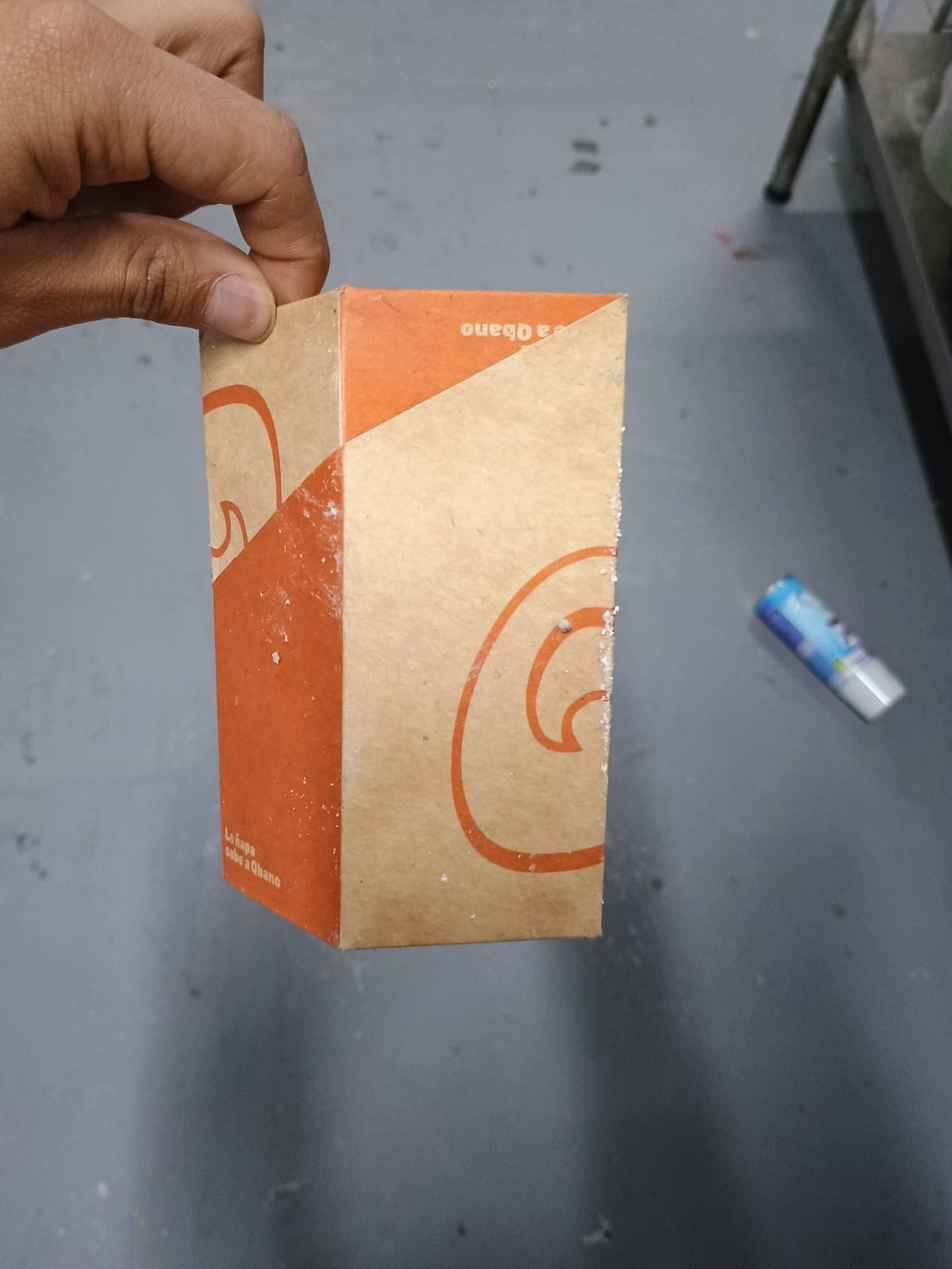Carton: (202, 290, 628, 949)
Metal: (752, 577, 905, 726)
